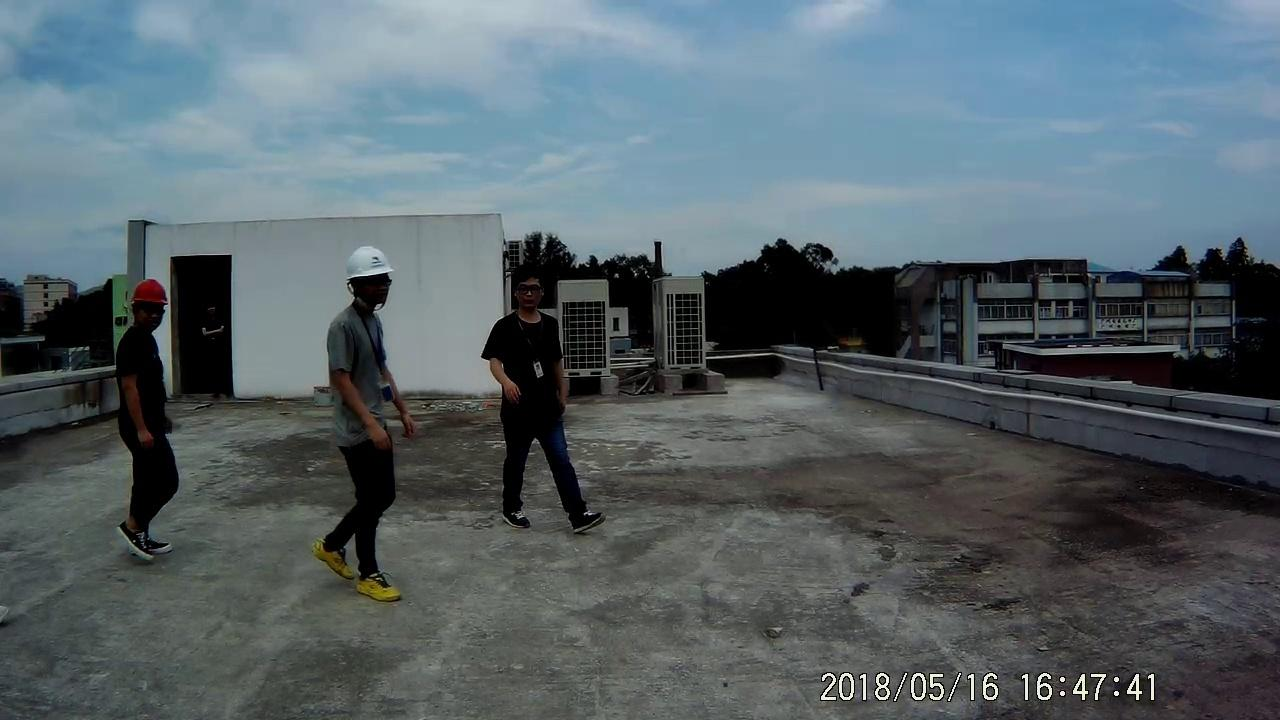Helmet: (346, 245, 394, 308)
NoVest: (484, 309, 560, 417), (325, 311, 391, 434)
